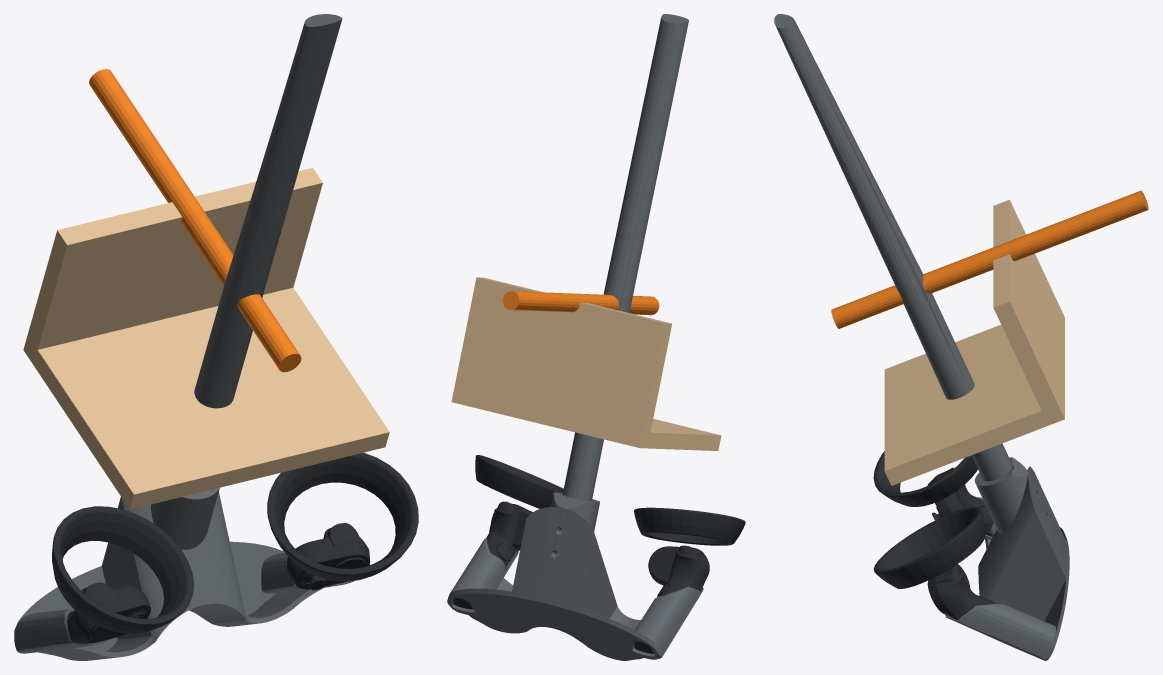
File: tinker.obj
The picture shows the model from 3 angles, left to right: view 1: azimuth 30°, elevation 25°; view 2: azimuth 150°, elevation 25°; view 3: azimuth 270°, elevation 25°; orthographic projection. The views are drawn at different scales.
Parts seen in each view (by area): view 1: group_14860437, group_6383466, group_2829873, group_16089887; view 2: group_6383466, group_14860437, group_2829873, group_16089887; view 3: group_6383466, group_14860437, group_2829873, group_16089887.
Boxes of the visible parts, box(x1,y1,x2,y2) form: group_14860437: box(23, 168, 389, 509); group_6383466: box(14, 14, 354, 660); group_2829873: box(52, 452, 418, 644); group_16089887: box(89, 69, 301, 372); group_6383466: box(447, 14, 703, 660); group_14860437: box(451, 277, 721, 450); group_2829873: box(453, 455, 745, 653); group_16089887: box(502, 291, 659, 315); group_6383466: box(774, 14, 1069, 660); group_14860437: box(884, 199, 1064, 485); group_2829873: box(873, 451, 996, 620); group_16089887: box(831, 190, 1148, 328).
Bounding box in the file's own units: 315 × 632 × 358.
